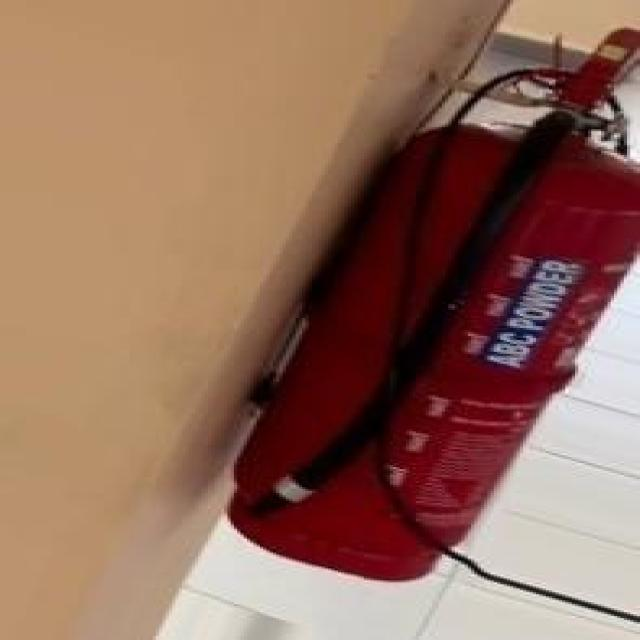fire_extinguisher: (208, 13, 637, 583)
